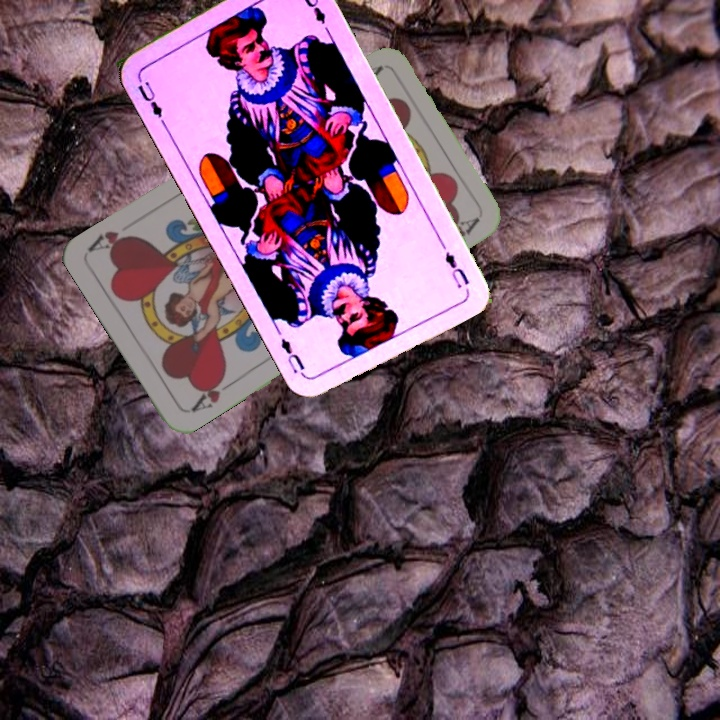EU: (133, 71, 167, 127), (440, 247, 472, 291)
HA: (187, 370, 237, 416)
